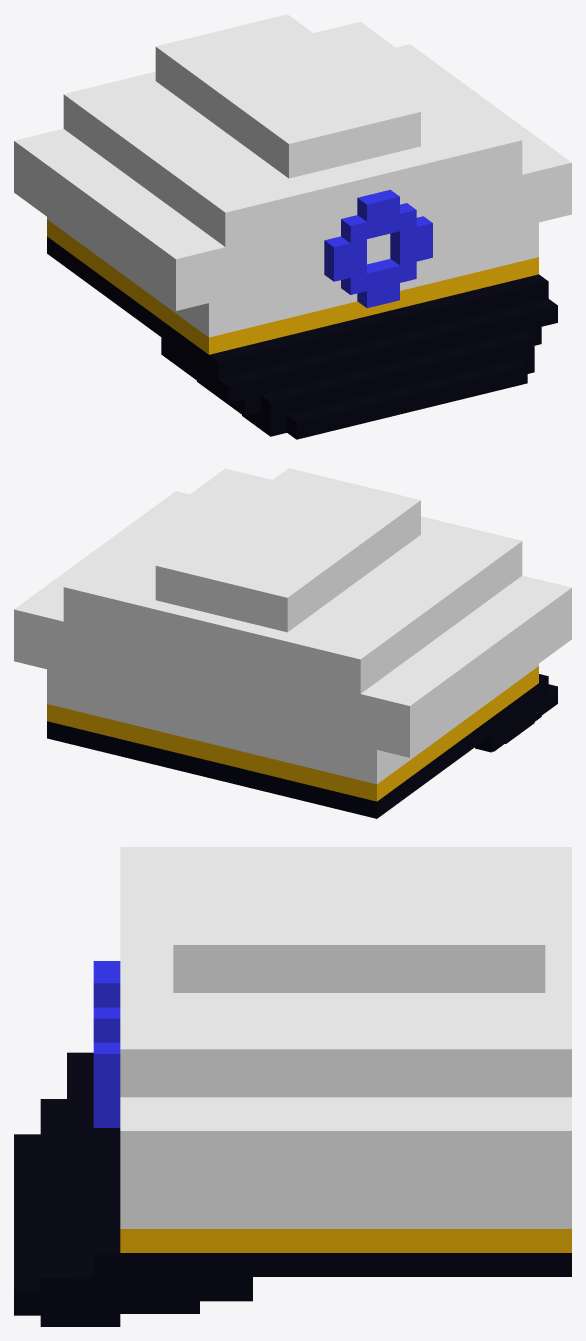
Rendered from link marine.vox-3.fbx.
The picture shows the model from 3 angles, top to bottom: view 1: azimuth 30°, elevation 25°; view 2: azimuth 150°, elevation 25°; view 3: azimuth 270°, elevation 25°; orthographic projection. The views are drawn at different scales.
Visible parts, largest first — view 1: link marine.vox-3; view 2: link marine.vox-3; view 3: link marine.vox-3.
Part boxes in pixels (x1,y1,x2,y2): link marine.vox-3: [14, 14, 571, 439]; link marine.vox-3: [14, 468, 571, 818]; link marine.vox-3: [14, 847, 571, 1326].
Size of the model in its own units: 2.4 by 1.4 by 2.1.
Materials: 1 (1 with a texture image).
